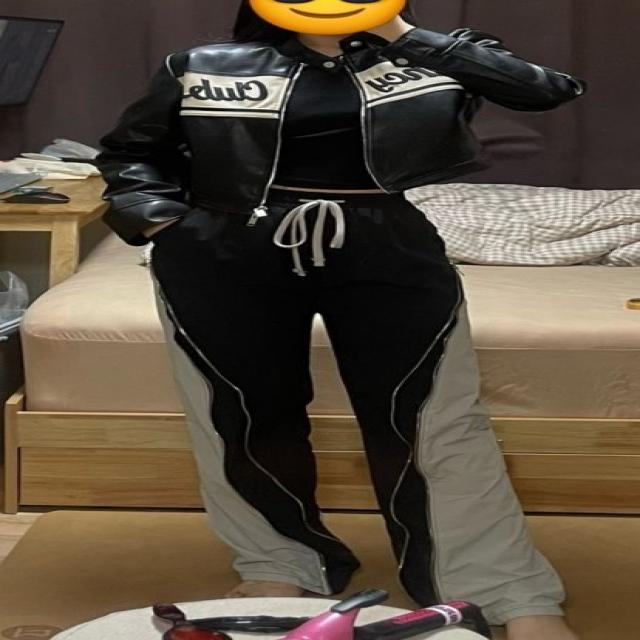denimpants: (153, 195, 573, 622)
jacket: (78, 27, 600, 243)
